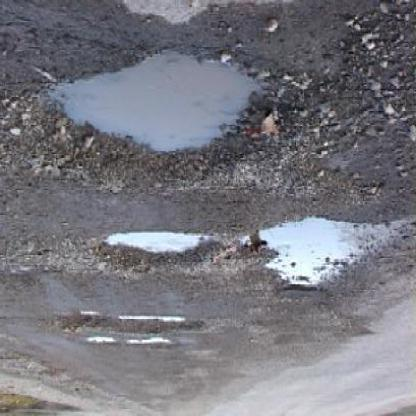pothole: (23, 49, 299, 193), (244, 217, 370, 298), (100, 233, 226, 272), (59, 310, 207, 335), (76, 339, 180, 352)
